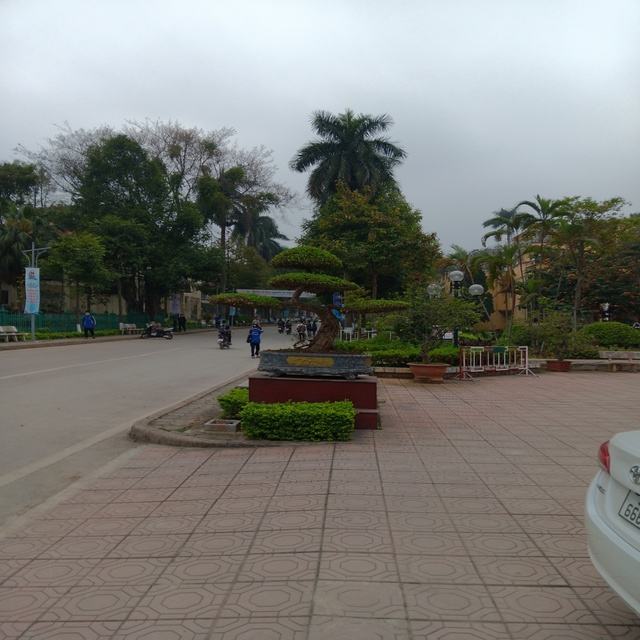caycanh: (221, 244, 412, 376)
